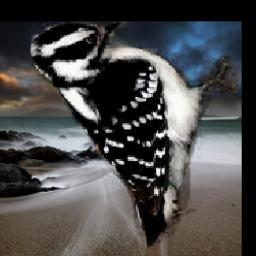Woodpecker: (30, 21, 237, 253)
